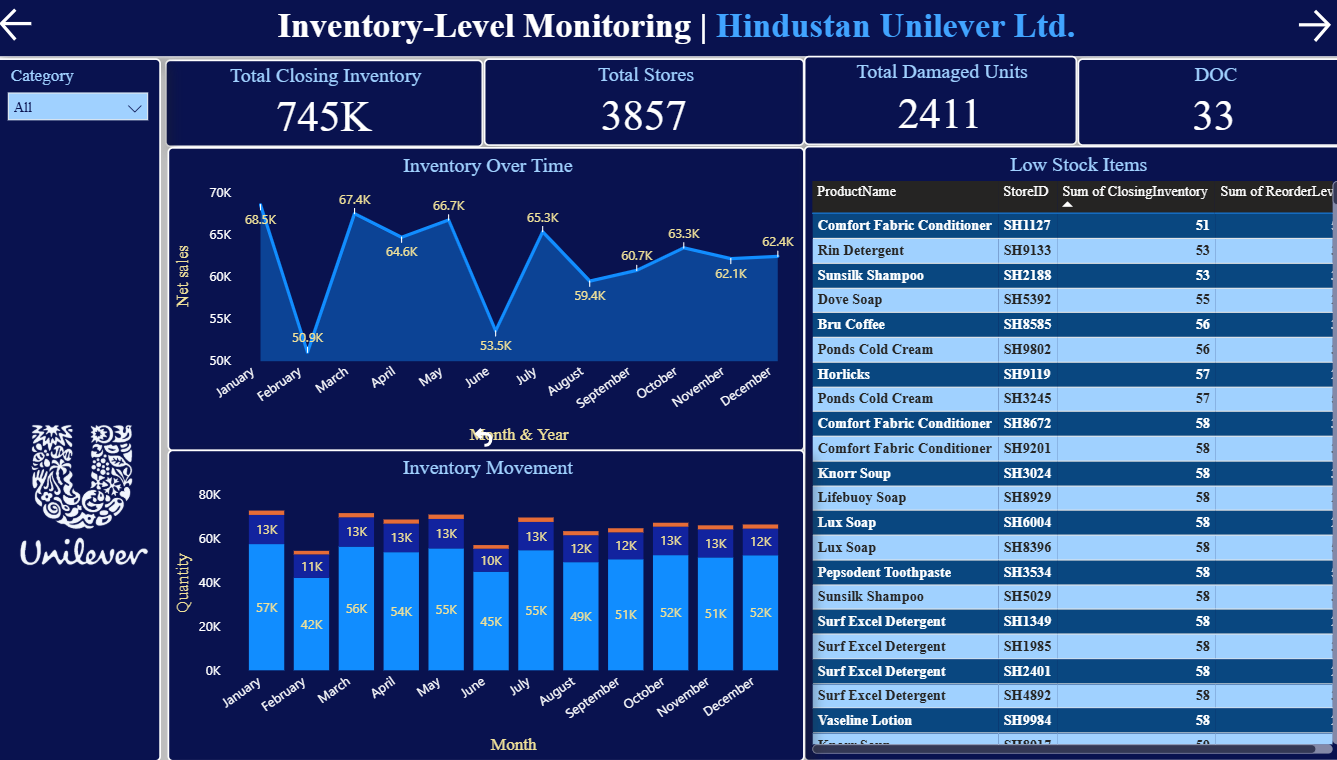

The page's visual inventory and layout, read from the dashboard file:
{"tool":"powerbi","page":{"name":"Inventory_level_Monitoring","canvas":[1280,720],"ordinal":2},"visuals":[{"type":"textbox","box":[0,9.3,1261.6,55.8],"z":0},{"type":"card","title":"Total Closing Inventory","fields":{"Values":["mtable.Total Closing Inventory"]},"box":[158.6,67.1,295.7,81.4],"z":1000},{"type":"card","title":"Total Stores","fields":{"Values":["mtable.Total Stores"]},"box":[454.3,65.7,298.6,81.4],"z":2000},{"type":"card","title":"Total Damaged  Units","fields":{"Values":["mtable.Total Damaged Units"]},"box":[752.9,64.3,254.3,82.9],"z":3000},{"type":"card","title":"DOC","fields":{"Values":["mtable.Days of Cover"]},"box":[1007.1,65.7,254.3,81.4],"z":4000},{"type":"slicer","title":"Promo Sales","fields":{"Values":["hul_db product.Category"]},"box":[0,65.7,154.3,654.3],"z":5000},{"type":"image","box":[0,371.4,154.3,204.3],"z":6000},{"type":"lineChart","title":"Inventory Over Time","fields":{"Y":["Sum(hul_db inventory.ClosingInventory)"],"Category":["hul_db date.Date.Variation.Date Hierarchy.Month"]},"box":[160,148.6,592.9,282.9],"z":7000},{"type":"tableEx","title":"Low Stock Items","fields":{"Values":["hul_db product.ProductName","hul_db store.StoreID","Sum(hul_db inventory.ClosingInventory)","Sum(hul_db inventory.ReorderLevel)"]},"box":[752.9,147.1,508.6,572.9],"z":8000},{"type":"columnChart","title":"Inventory Movement","fields":{"Category":["hul_db date.Date.Variation.Date Hierarchy.Month"],"Y":["Sum(hul_db inventory.OpeningInventory)","Sum(hul_db inventory.ReceivedQty)","Sum(hul_db inventory.SoldQty)"]},"box":[160,430,592.9,290],"z":9000},{"type":"actionButton","box":[1207.6,16.5,53.5,39.8],"z":10000},{"type":"actionButton","box":[0,15.1,54.9,39.8],"z":11000},{"type":"actionButton","box":[441.4,398.6,25.7,40],"z":12000}]}

Visuals, with their boxes in screenshot pixels (x1, y1, x2, y2), scaled from the page's 1280x720 canvas onto the 1337x760 screenshot:
textbox: {"left": 0, "top": 10, "right": 1318, "bottom": 69}
"Total Closing Inventory" card: {"left": 166, "top": 71, "right": 475, "bottom": 157}
"Total Stores" card: {"left": 475, "top": 69, "right": 786, "bottom": 155}
"Total Damaged  Units" card: {"left": 786, "top": 68, "right": 1052, "bottom": 155}
"DOC" card: {"left": 1052, "top": 69, "right": 1318, "bottom": 155}
"Promo Sales" slicer: {"left": 0, "top": 69, "right": 161, "bottom": 759}
image: {"left": 0, "top": 392, "right": 161, "bottom": 608}
"Inventory Over Time" lineChart: {"left": 167, "top": 157, "right": 786, "bottom": 455}
"Low Stock Items" tableEx: {"left": 786, "top": 155, "right": 1318, "bottom": 759}
"Inventory Movement" columnChart: {"left": 167, "top": 454, "right": 786, "bottom": 759}
actionButton: {"left": 1261, "top": 17, "right": 1317, "bottom": 59}
actionButton: {"left": 0, "top": 16, "right": 57, "bottom": 58}
actionButton: {"left": 461, "top": 421, "right": 488, "bottom": 463}
